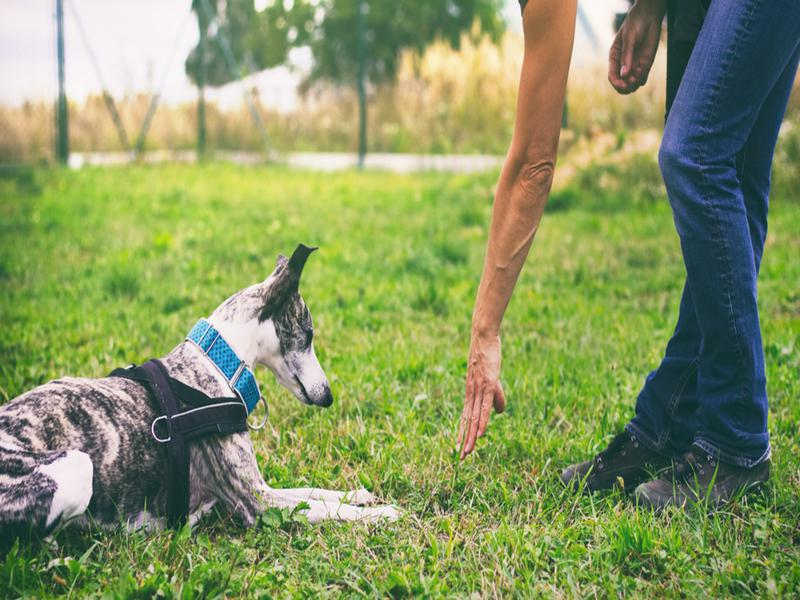dog_down: (1, 243, 407, 546)
